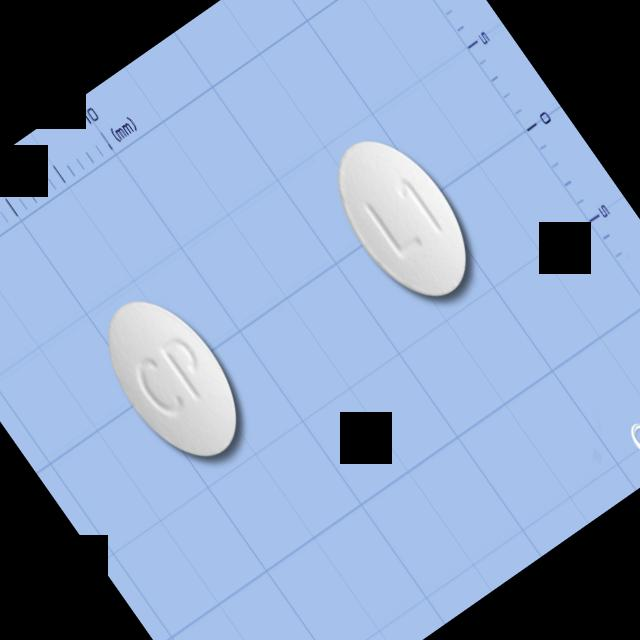Refloxin Tab: (310, 116, 493, 319), (82, 276, 264, 478)
